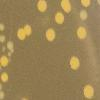yellow: (43, 27, 57, 44), (81, 83, 95, 100), (33, 0, 49, 14), (75, 24, 88, 41), (69, 55, 81, 72), (53, 11, 66, 26), (77, 9, 90, 22), (15, 27, 26, 42), (23, 23, 33, 38), (0, 55, 10, 69), (63, 3, 73, 15), (77, 0, 92, 8), (5, 40, 15, 52), (58, 0, 71, 9), (0, 71, 9, 84), (0, 20, 6, 31), (0, 34, 6, 44), (0, 90, 6, 100), (0, 46, 8, 53), (19, 95, 30, 100), (6, 52, 12, 59), (0, 82, 4, 92), (95, 0, 100, 7), (10, 48, 15, 54), (0, 62, 2, 71)
